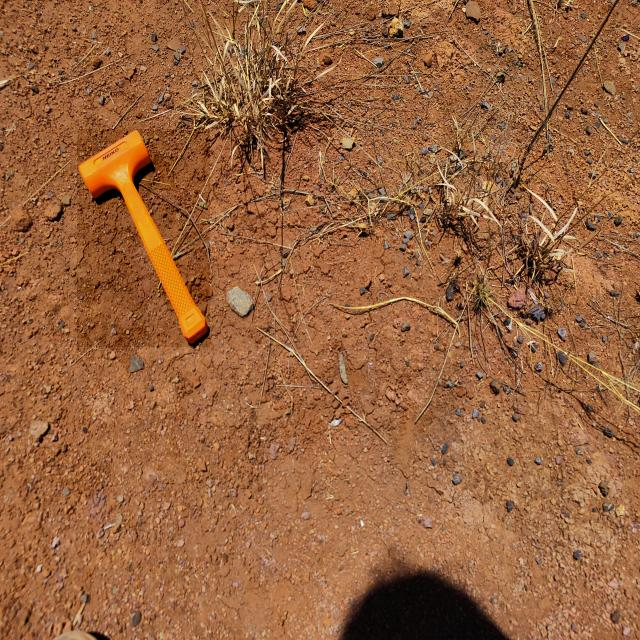Orange_hammer: (77, 130, 210, 348)
